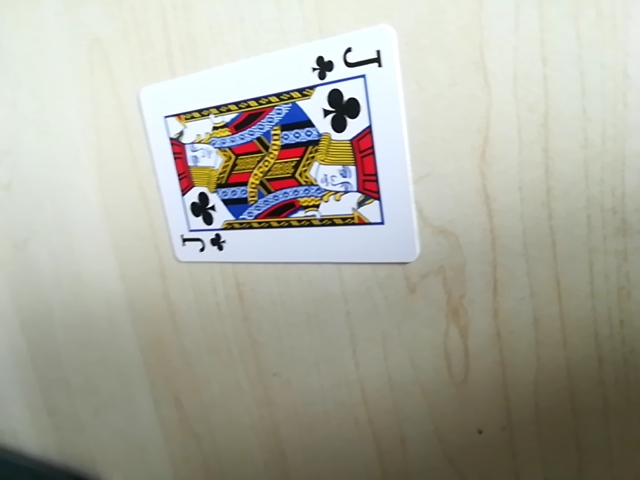mh j: (314, 42, 385, 83), (175, 225, 228, 260)
